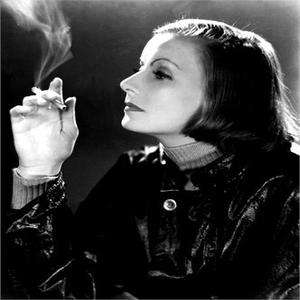cigarette: (30, 84, 67, 112)
